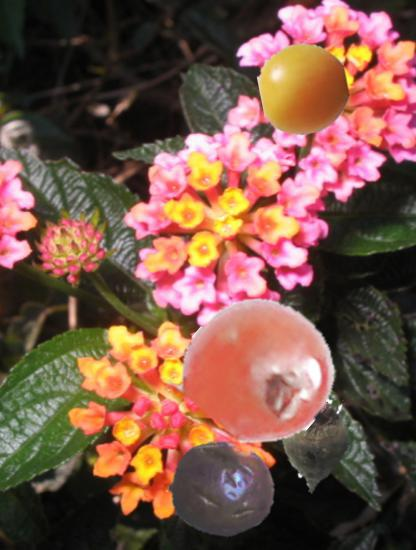Beetroot: (264, 392, 367, 495)
Cherry: (260, 44, 350, 134)
Passion: (170, 435, 278, 543)
Redcurrant: (187, 296, 335, 444)
